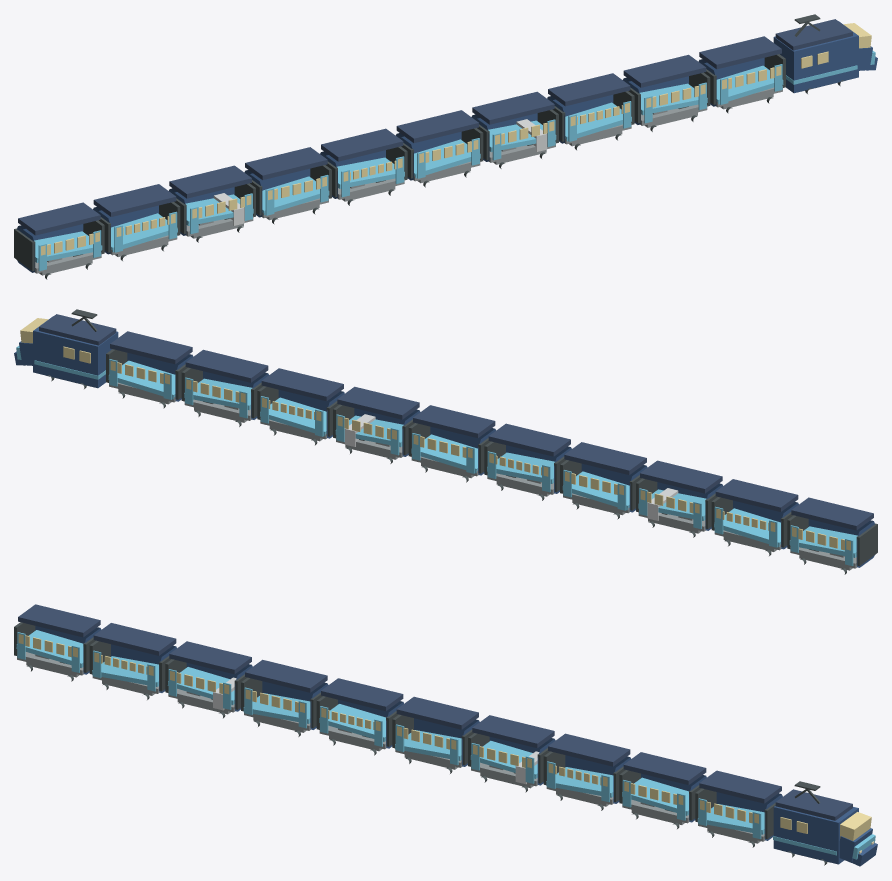
The model's file is nightjet.glb.
3 renders of one model, top to bottom at view 1: azimuth 30°, elevation 25°; view 2: azimuth 150°, elevation 25°; view 3: azimuth 330°, elevation 25°, orthographic.
Parts seen in each view (by area): view 1: body_shell, nightjet_car_9_roof, nightjet_car_2_roof, nightjet_car_5_roof, nightjet_car_4_roof, nightjet_car_6_roof, nightjet_car_10_roof, nightjet_car_1_roof, nightjet_car_8_roof, nightjet_car_3_roof, nightjet_car_7_roof, roof (+16 smaller); view 2: body_shell, nightjet_car_9_roof, nightjet_car_2_roof, nightjet_car_5_roof, nightjet_car_4_roof, nightjet_car_6_roof, nightjet_car_10_roof, nightjet_car_1_roof, nightjet_car_8_roof, nightjet_car_3_roof, nightjet_car_7_roof, roof (+16 smaller); view 3: body_shell, nightjet_car_2_roof, nightjet_car_9_roof, nightjet_car_3_roof, nightjet_car_4_roof, nightjet_car_6_roof, nightjet_car_8_roof, nightjet_car_1_roof, nightjet_car_5_roof, nightjet_car_7_roof, nightjet_car_10_roof, roof (+16 smaller).
Part boxes in pixels (bbox=[...]): body_shell: bbox=[773, 21, 858, 93]; nightjet_car_9_roof: bbox=[93, 184, 176, 216]; nightjet_car_2_roof: bbox=[623, 54, 706, 87]; nightjet_car_5_roof: bbox=[396, 110, 478, 142]; nightjet_car_4_roof: bbox=[472, 91, 554, 124]; nightjet_car_6_roof: bbox=[321, 128, 403, 161]; nightjet_car_10_roof: bbox=[18, 202, 100, 235]; nightjet_car_1_roof: bbox=[699, 36, 781, 69]; nightjet_car_8_roof: bbox=[169, 165, 251, 198]; nightjet_car_3_roof: bbox=[548, 73, 630, 106]; nightjet_car_7_roof: bbox=[245, 147, 327, 179]; roof: bbox=[775, 19, 852, 50]; body_shell: bbox=[33, 316, 118, 388]; nightjet_car_9_roof: bbox=[715, 479, 798, 511]; nightjet_car_2_roof: bbox=[185, 349, 268, 382]; nightjet_car_5_roof: bbox=[413, 405, 495, 437]; nightjet_car_4_roof: bbox=[337, 386, 419, 419]; nightjet_car_6_roof: bbox=[488, 423, 570, 456]; nightjet_car_10_roof: bbox=[791, 497, 873, 530]; nightjet_car_1_roof: bbox=[110, 331, 192, 364]; nightjet_car_8_roof: bbox=[640, 460, 722, 493]; nightjet_car_3_roof: bbox=[261, 368, 343, 401]; nightjet_car_7_roof: bbox=[564, 442, 646, 474]; roof: bbox=[39, 314, 116, 345]; body_shell: bbox=[773, 806, 858, 864]; nightjet_car_2_roof: bbox=[623, 752, 706, 784]; nightjet_car_9_roof: bbox=[93, 623, 176, 655]; nightjet_car_3_roof: bbox=[548, 733, 630, 766]; nightjet_car_4_roof: bbox=[472, 715, 554, 748]; nightjet_car_6_roof: bbox=[321, 678, 403, 711]; nightjet_car_8_roof: bbox=[169, 641, 251, 674]; nightjet_car_1_roof: bbox=[699, 770, 781, 803]; nightjet_car_5_roof: bbox=[396, 696, 478, 729]; nightjet_car_7_roof: bbox=[245, 659, 327, 692]; nightjet_car_10_roof: bbox=[18, 604, 100, 637]; roof: bbox=[775, 789, 852, 820].
Size of the model in its own units: 17.46 by 1.32 by 0.791.
